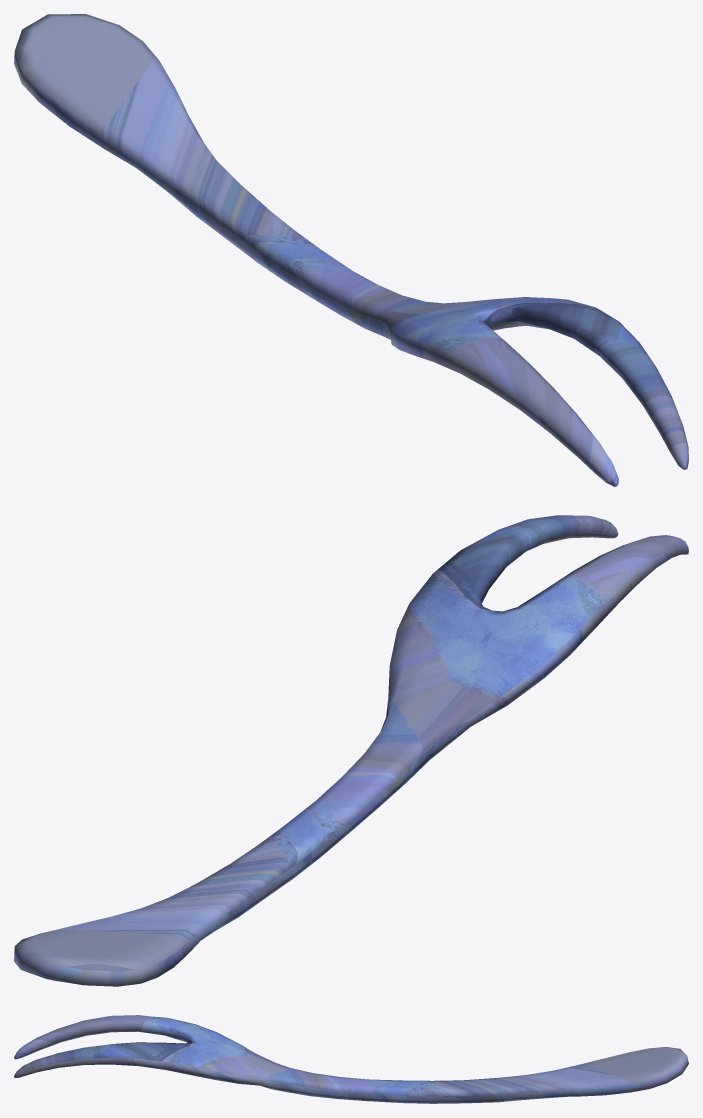
The model's file is Fork3333.fbx.
3 views of the same model, one above another, from view 1: azimuth 30°, elevation 25°; view 2: azimuth 150°, elevation 25°; view 3: azimuth 270°, elevation 25° (orthographic). The views are drawn at different scales.
Parts seen in each view (by area): view 1: Fork; view 2: Fork; view 3: Fork.
Boxes of the visible parts, x1,y1,x2,y2 form: Fork: (14,14,688,486); Fork: (14,515,688,986); Fork: (14,1015,688,1103).
Size of the model in its own units: 45.06 by 31.99 by 289.
